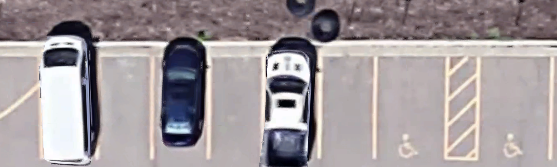Occupied: (40, 48, 98, 159), (262, 47, 320, 158), (152, 49, 209, 159)
Vacant: (477, 51, 553, 160), (375, 47, 448, 159), (320, 47, 375, 158), (97, 48, 152, 158), (209, 47, 263, 159)
